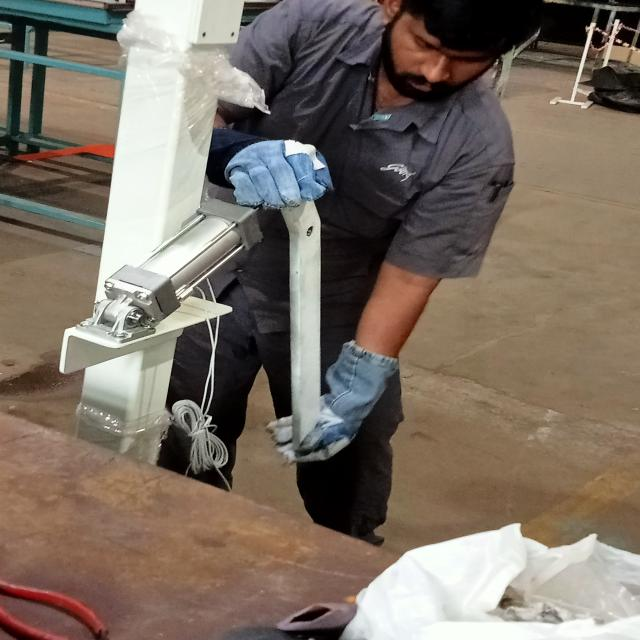Gloves-Detection: (262, 343, 387, 468), (207, 132, 336, 212)
